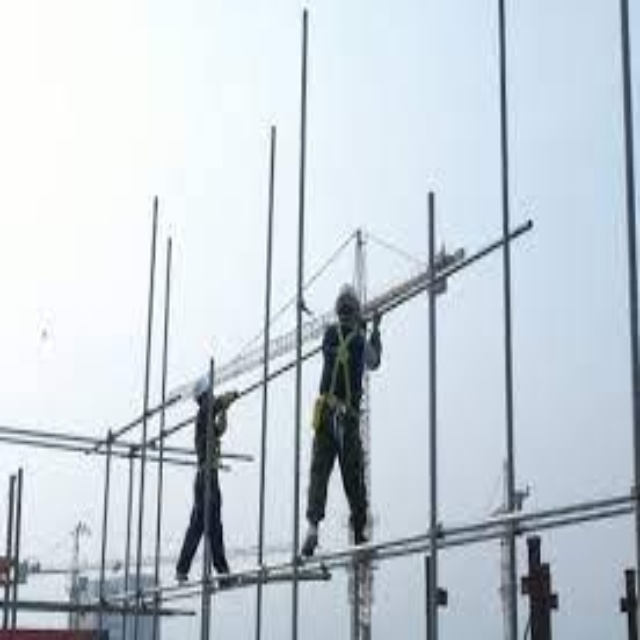Arnes_seguridad: (319, 316, 367, 454)
